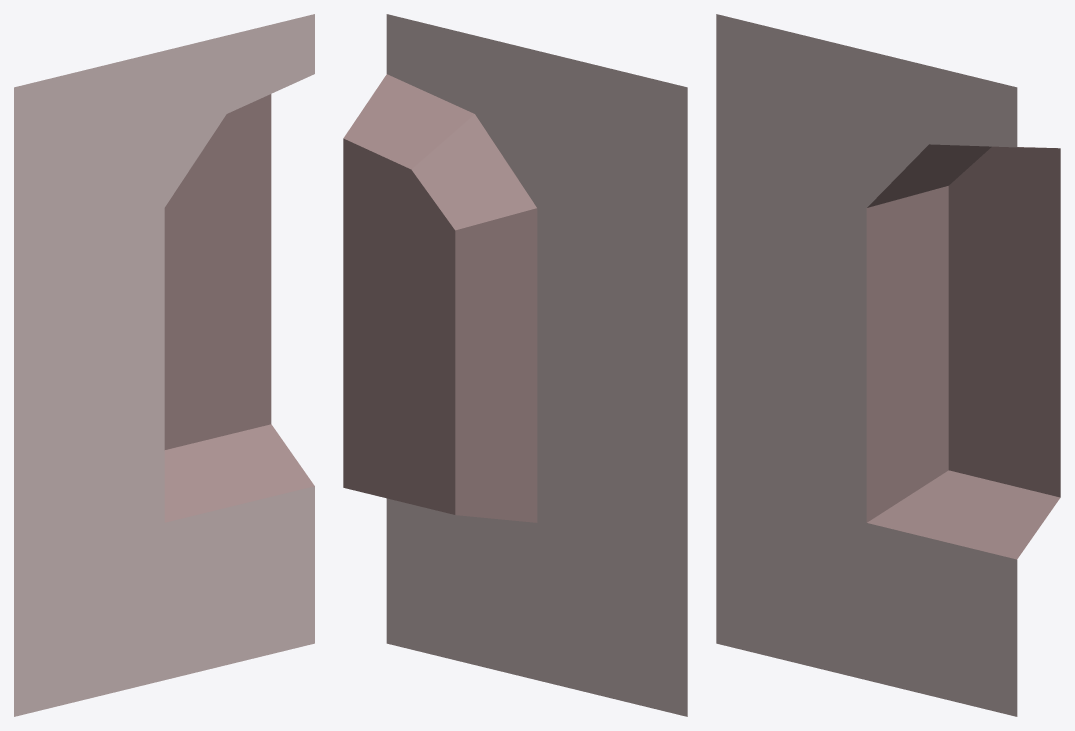
File: castle_window_02_endpiece.fbx
3 views of the same model, side by side, from view 1: azimuth 30°, elevation 25°; view 2: azimuth 150°, elevation 25°; view 3: azimuth 330°, elevation 25° (orthographic).
Parts seen in each view (by area): view 1: castle_window_02_endpiece; view 2: castle_window_02_endpiece; view 3: castle_window_02_endpiece.
Boxes of the visible parts, x1,y1,x2,y2 form: castle_window_02_endpiece: (14, 14, 314, 716); castle_window_02_endpiece: (343, 14, 687, 716); castle_window_02_endpiece: (716, 14, 1060, 716).
Bounding box in the file's own units: 4 × 8 × 1.
